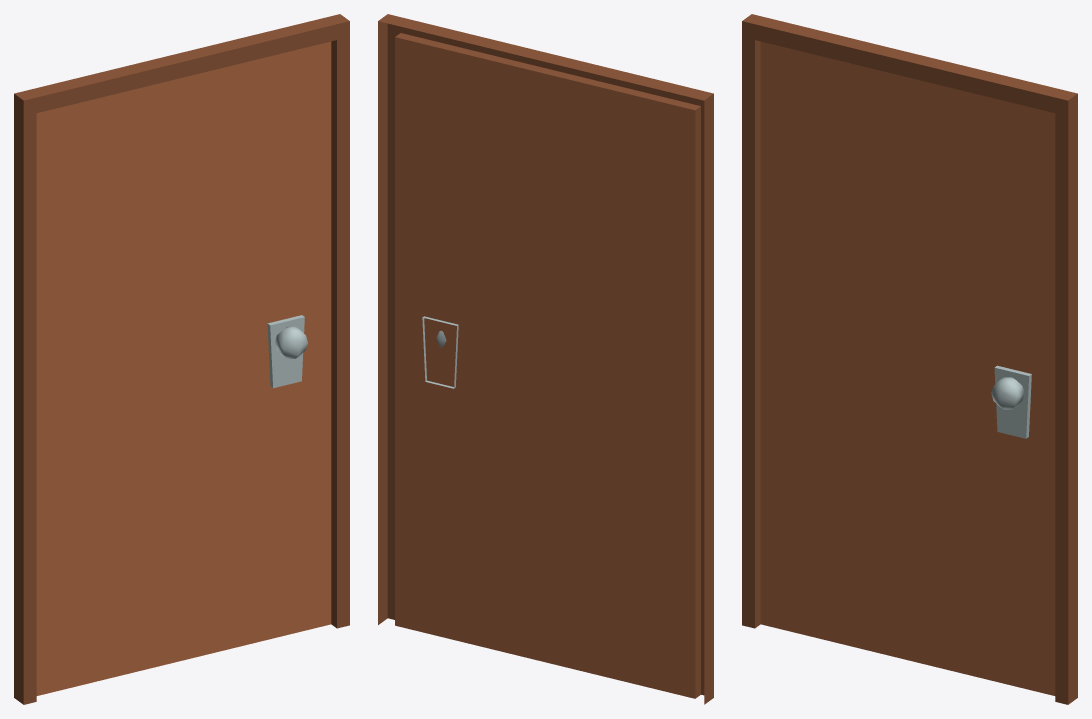
File: SM_Door_001.fbx
The picture shows the model from 3 angles, left to right: view 1: azimuth 30°, elevation 25°; view 2: azimuth 150°, elevation 25°; view 3: azimuth 330°, elevation 25°; orthographic projection.
Parts seen in each view (by area): view 1: Deur; view 2: Deur; view 3: Deur.
Part boxes in pixels (bbox=[...]): Deur: bbox=[14, 14, 349, 704]; Deur: bbox=[378, 14, 713, 704]; Deur: bbox=[742, 14, 1077, 704].
Size of the model in its own units: 0.6505 by 1.15 by 0.0655.
